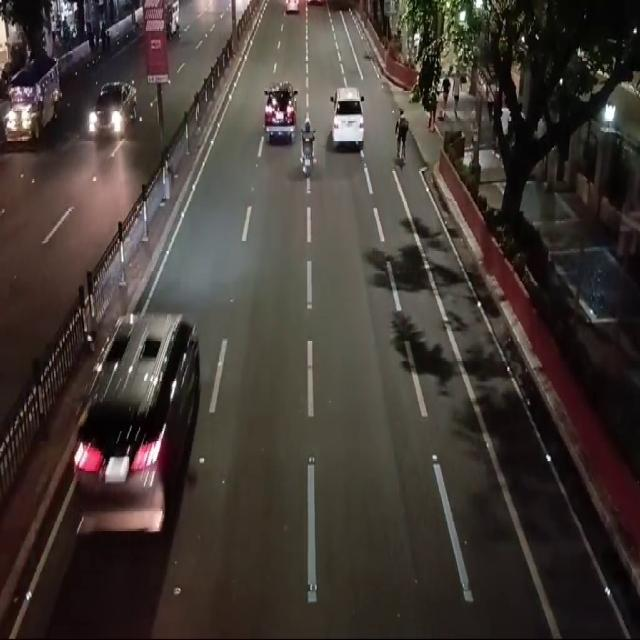car: (58, 295, 222, 573), (84, 73, 141, 153), (326, 70, 370, 164), (258, 75, 300, 160)
jeepney: (1, 35, 70, 159)
motorcycle: (296, 111, 318, 181)
